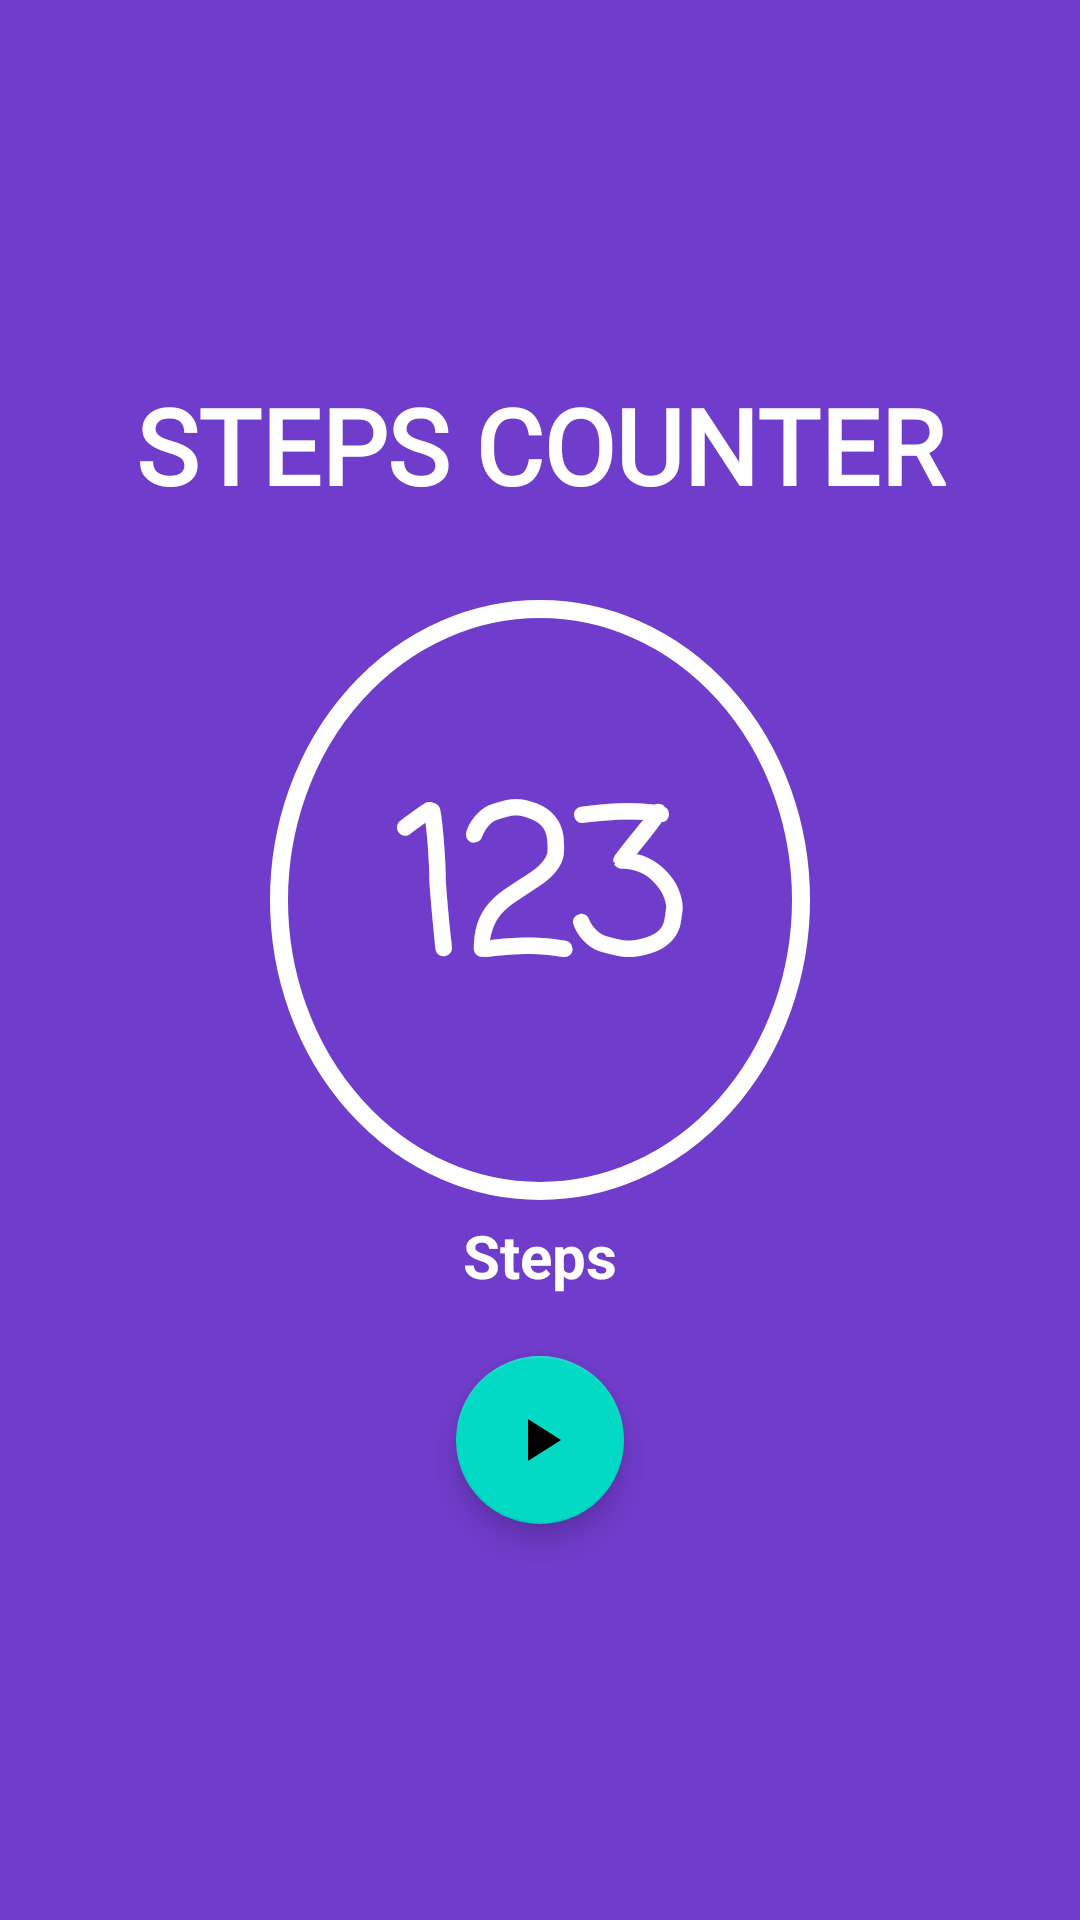

Where to tap for icons on this 1080 × 1920 app screen, as point (x, y):
play: point (540, 1440)
